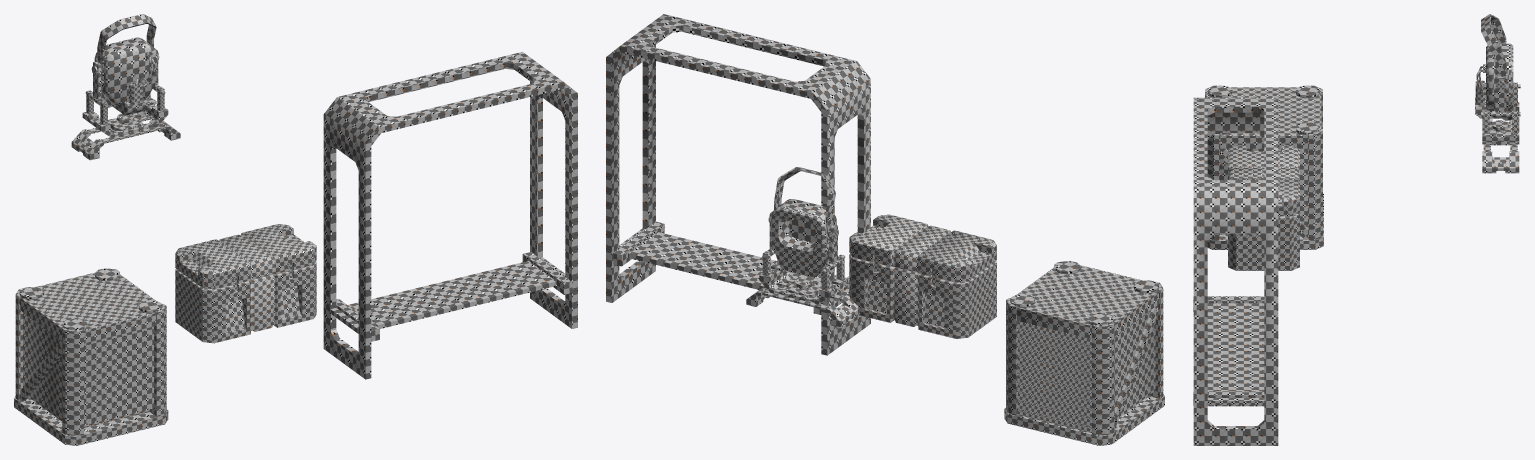
Rendered from Props_02_Gameready.FBX.
The picture shows the model from 3 angles, left to right: view 1: azimuth 30°, elevation 25°; view 2: azimuth 150°, elevation 25°; view 3: azimuth 270°, elevation 25°; orthographic projection. The views are drawn at different scales.
Visible parts, largest first — view 1: rw001, Cylinder065; view 2: rw001, Cylinder065; view 3: rw001, Cylinder065.
Part boxes in pixels (x1,y1,x2,y2): rw001: [14, 14, 577, 445]; Cylinder065: [71, 115, 180, 160]; rw001: [606, 14, 1164, 445]; Cylinder065: [746, 281, 859, 327]; rw001: [1193, 14, 1520, 445]; Cylinder065: [1482, 122, 1519, 173].
Size of the model in its own units: 277 by 146 by 155.
Materials: 1 (1 with a texture image).
